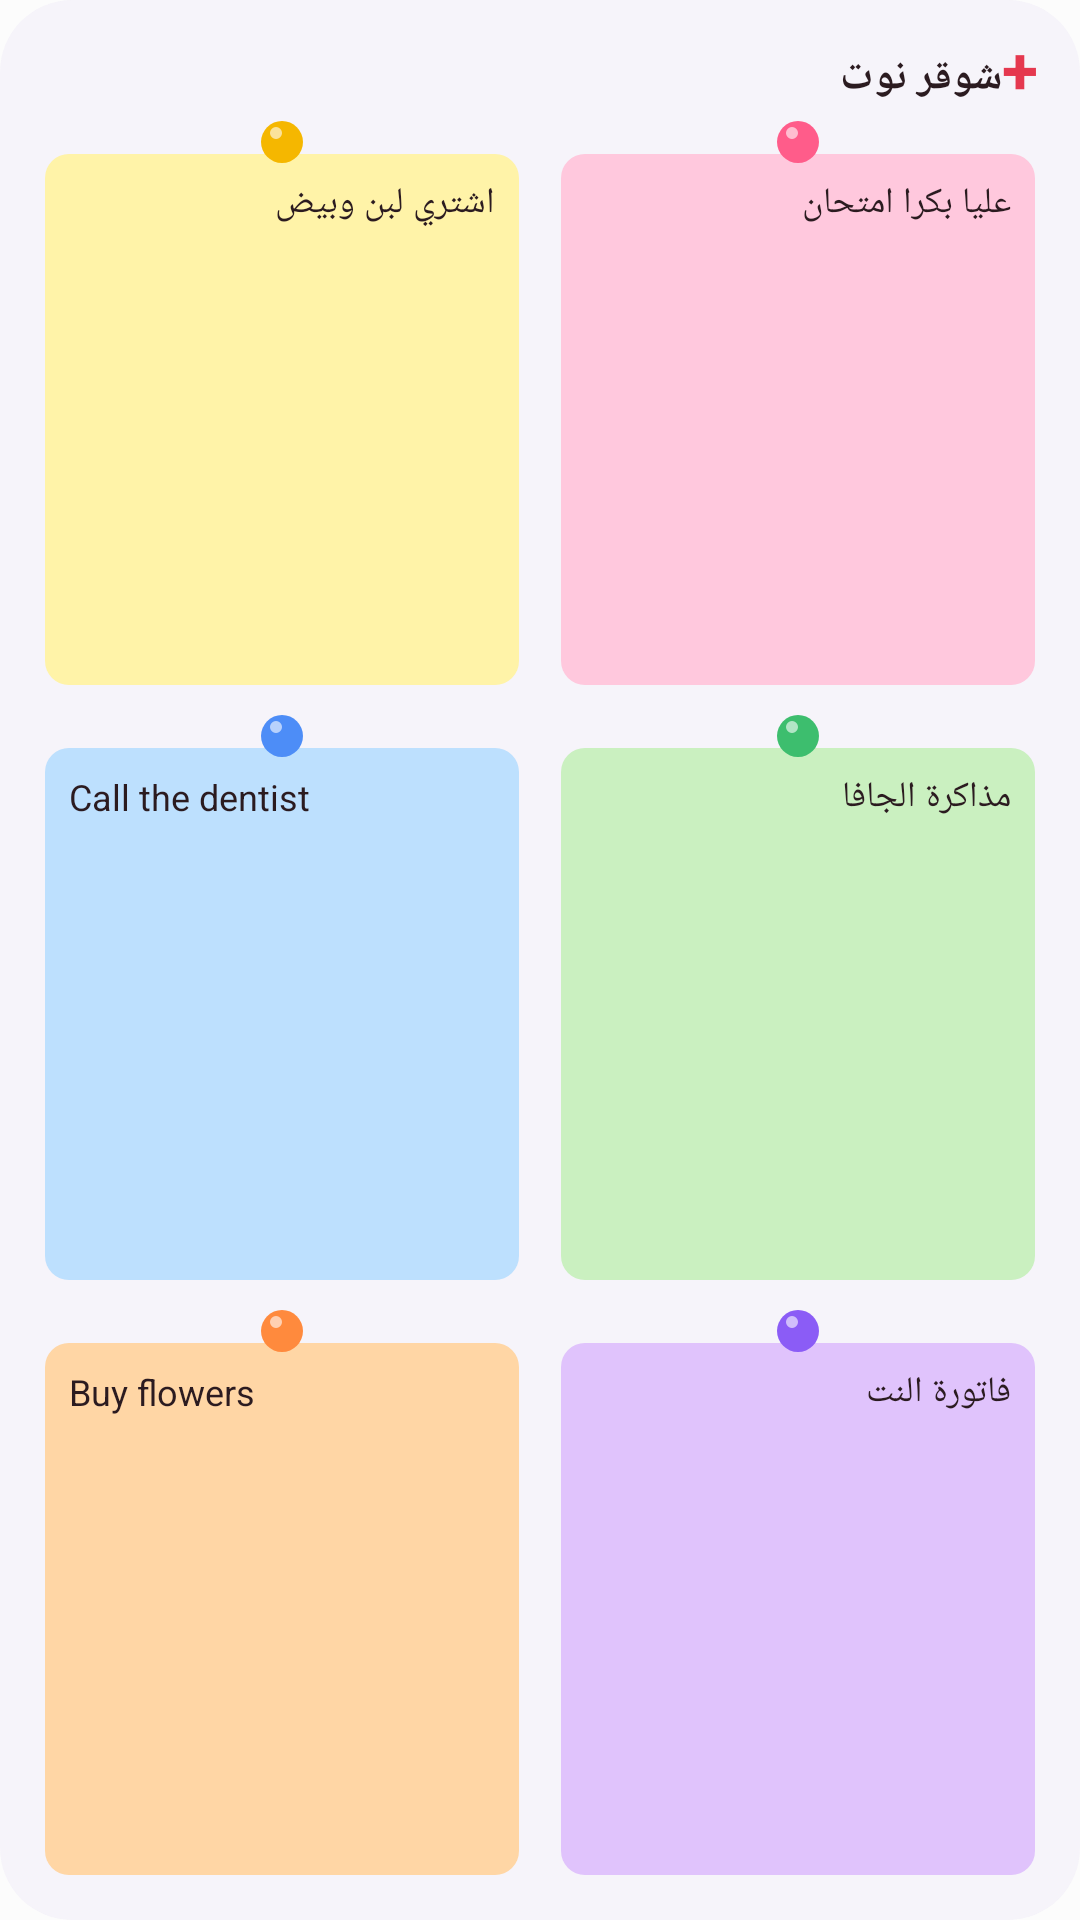

Locate icon controls on the screen. Image size 1080w x 1920h, boxes as (x1, y1, x2, y2).
pin: (261, 121, 303, 163), (777, 121, 819, 163), (261, 715, 303, 757), (777, 715, 819, 757), (261, 1310, 303, 1352), (777, 1310, 819, 1352)
